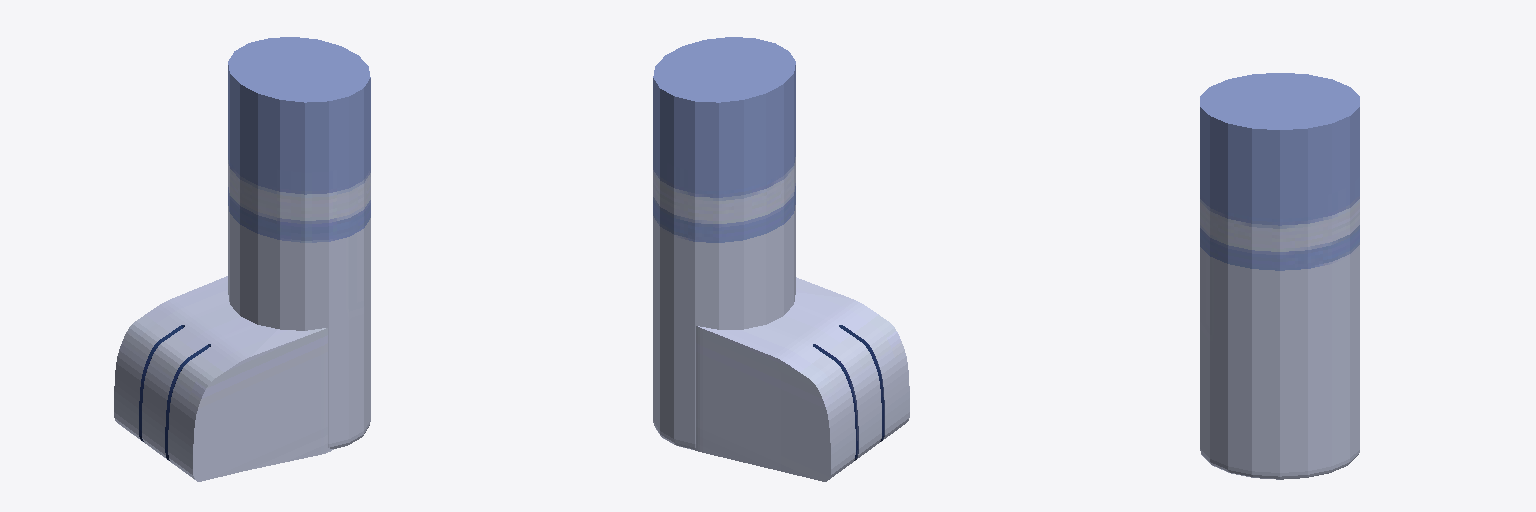
The picture shows the model from 3 angles: view 1: azimuth 30°, elevation 25°; view 2: azimuth 150°, elevation 25°; view 3: azimuth 270°, elevation 25°; orthographic projection.
Parts seen in each view (by area): view 1: Cylinder017; view 2: Cylinder017; view 3: Cylinder017.
Part boxes in pixels (left/top/right/bottom): Cylinder017: left=114, top=37, right=370, bottom=481; Cylinder017: left=653, top=37, right=909, bottom=481; Cylinder017: left=1200, top=73, right=1359, bottom=479.
Size of the model in its own units: 13.98 by 22.9 by 9.44.
1 materials, 1 textured.